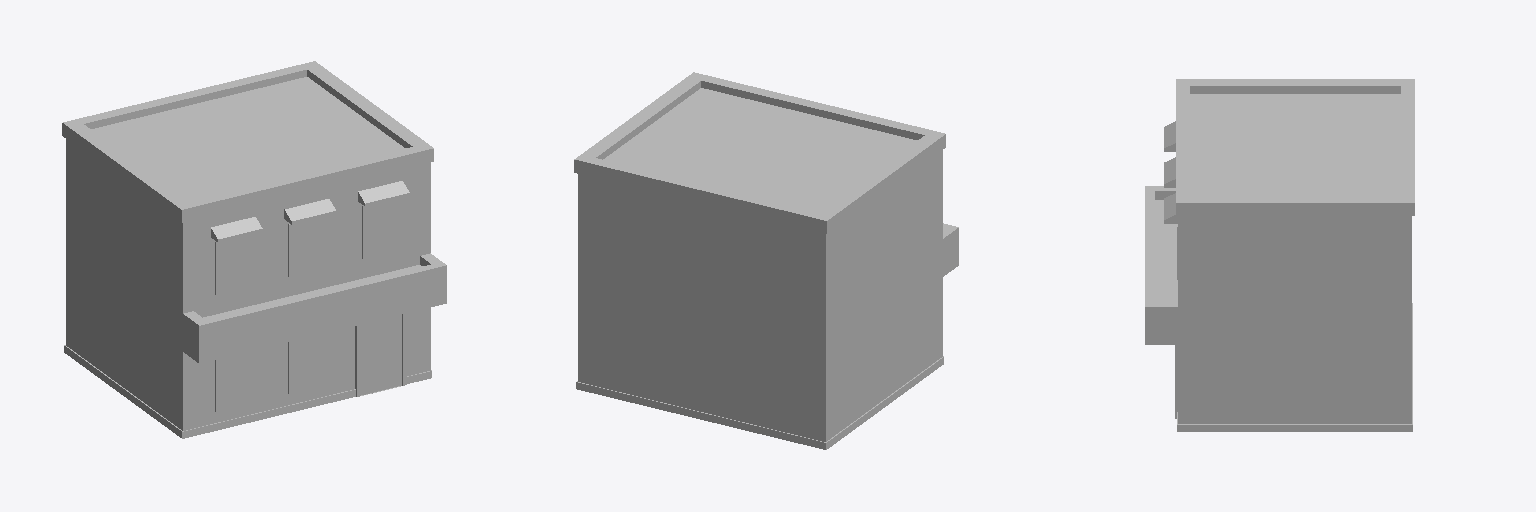
Rendered from Building_Music Store.obj.
3 renders of one model, left to right at view 1: azimuth 30°, elevation 25°; view 2: azimuth 150°, elevation 25°; view 3: azimuth 270°, elevation 25°, orthographic.
Parts seen in each view (by area): view 1: Building_Music_Store; view 2: Building_Music_Store; view 3: Building_Music_Store.
Part boxes in pixels (left/top/right/bottom): Building_Music_Store: left=62, top=61, right=446, bottom=438; Building_Music_Store: left=574, top=72, right=958, bottom=449; Building_Music_Store: left=1145, top=79, right=1414, bottom=431.
Size of the model in its own units: 442 by 384 by 408.